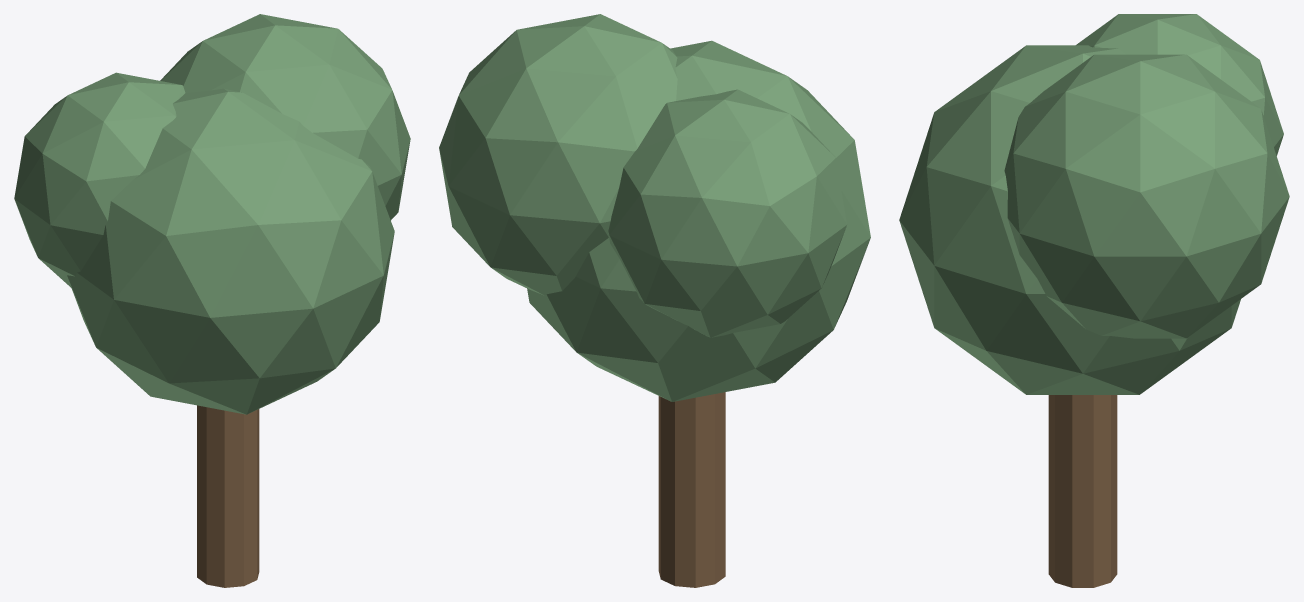
The model's file is plain_tree.obj.
The picture shows the model from 3 angles, left to right: view 1: azimuth 30°, elevation 25°; view 2: azimuth 150°, elevation 25°; view 3: azimuth 270°, elevation 25°; orthographic projection. The views are drawn at different scales.
Parts seen in each view (by area): view 1: PlainTree; view 2: PlainTree; view 3: PlainTree.
Boxes of the visible parts, x1,y1,x2,y2 form: PlainTree: [14, 14, 410, 587]; PlainTree: [439, 14, 870, 587]; PlainTree: [899, 14, 1289, 587].
Size of the model in its own units: 0.7565 by 1.06 by 0.68.
